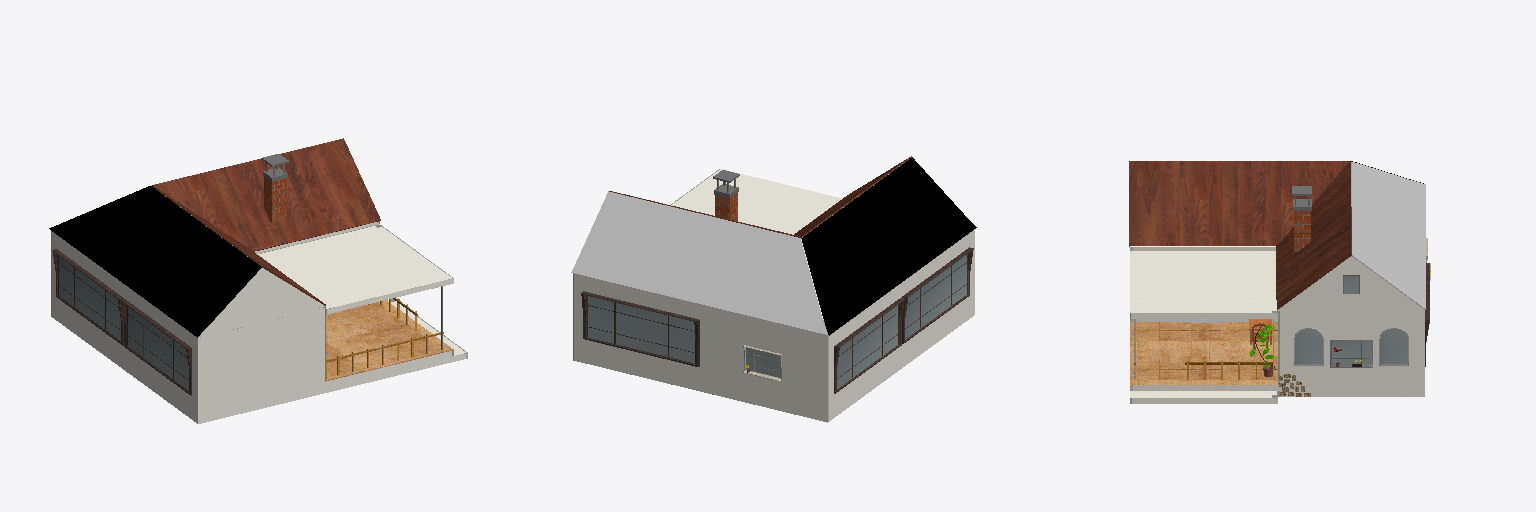
The picture shows the model from 3 angles: view 1: azimuth 30°, elevation 25°; view 2: azimuth 150°, elevation 25°; view 3: azimuth 270°, elevation 25°; orthographic projection.
Parts seen in each view (by area): view 1: pCube1159, pCube1154, pCube1153, pCube1160, pCube79, pCube1168, pCube1169, pCube62, pCube61, pCube1152, pCube68; view 2: pCube1159, pCube1155, pCube1154, pCube1166, pCube1169, pCube1168, pCube31, pCube61, pCube62, pCube1152, pCube1167; view 3: pCube1159, pCube1152, pCube1155, pCube1160, pCube1153, pCube79, pCube1164, pCube1165, pCube1163, pCube68.
Part boxes in pixels (x1,y1,x2,y2): pCube1159: (51, 221, 467, 423); pCube1154: (49, 186, 261, 337); pCube1153: (153, 138, 380, 251); pCube1160: (326, 300, 453, 380); pCube79: (165, 196, 325, 337); pCube1168: (59, 256, 120, 340); pCube1169: (128, 307, 188, 390); pCube62: (121, 299, 191, 395); pCube61: (52, 249, 123, 345); pCube1152: (152, 185, 325, 305); pCube68: (264, 177, 286, 222); pCube1159: (573, 169, 974, 422); pCube1155: (571, 191, 827, 335); pCube1154: (801, 157, 976, 335); pCube1166: (588, 296, 694, 363); pCube1169: (905, 255, 966, 339); pCube1168: (837, 305, 897, 388); pCube31: (581, 291, 699, 366); pCube61: (834, 298, 904, 393); pCube62: (902, 247, 973, 343); pCube1152: (794, 156, 911, 237); pCube1167: (746, 348, 779, 377); pCube1159: (1130, 247, 1424, 403); pCube1152: (1129, 161, 1349, 246); pCube1155: (1352, 162, 1425, 309); pCube1160: (1130, 322, 1277, 384); pCube1153: (1276, 161, 1351, 309); pCube79: (1130, 162, 1424, 310); pCube1164: (1295, 329, 1322, 363); pCube1165: (1380, 329, 1407, 363); pCube1163: (1332, 341, 1371, 363); pCube68: (1294, 211, 1310, 251).
Size of the model in its own units: 18.5 by 10.47 by 17.63.
36 materials, 27 textured.